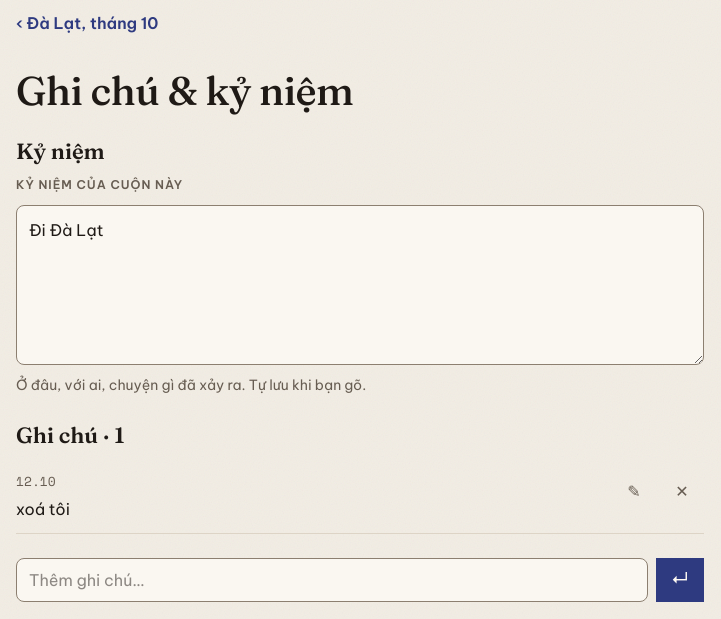
Test: NotesMemory (NOTE-1, NotesMemory board) › deletes a note
Click the button named "Xoá ghi chú: xoá tôi".
click(682, 491)  # box top-left (660, 469), bottom-right (704, 513)
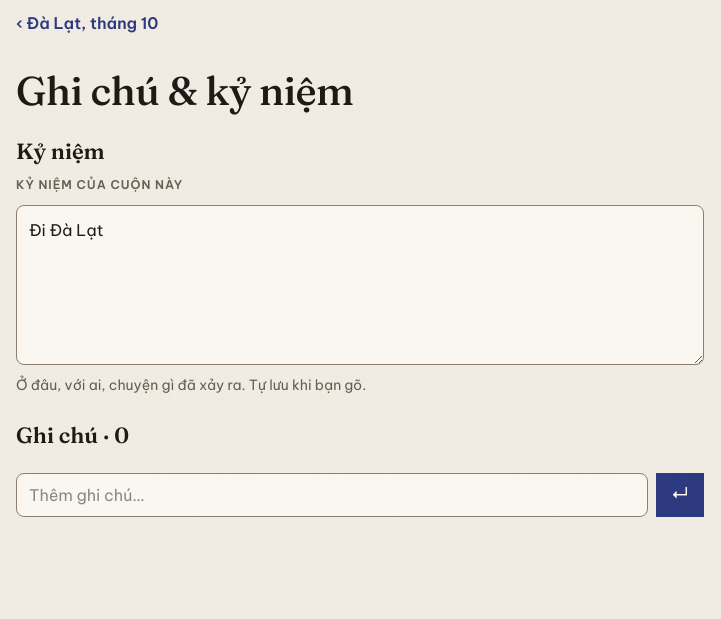
expect the text "xoá tôi" is gone: met
